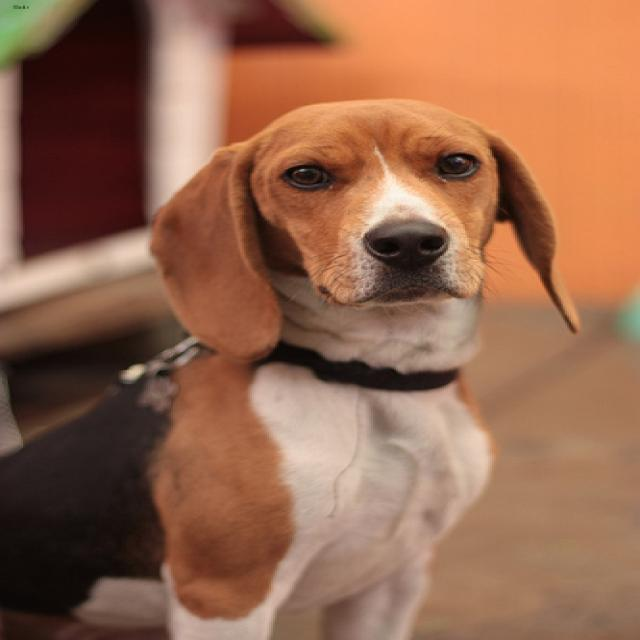dog-beagle: (2, 84, 605, 637)
